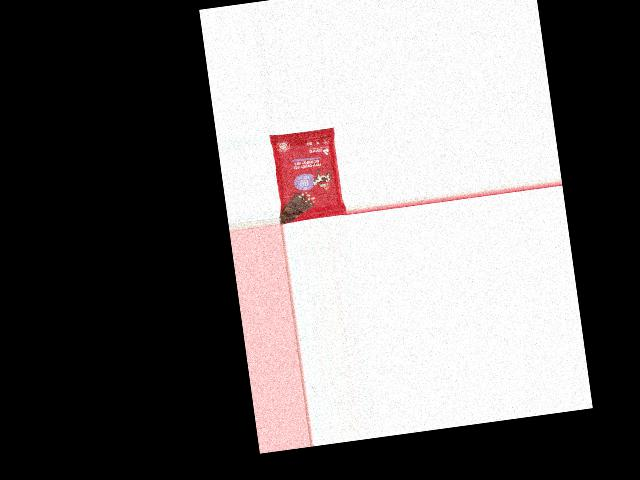chocolate: (271, 125, 346, 223)
